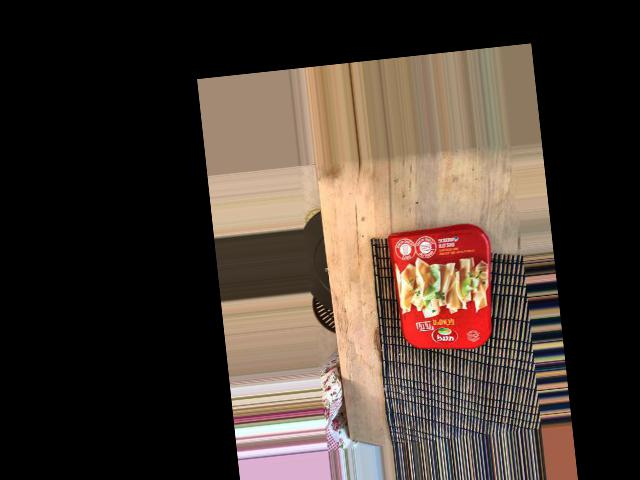cheese: (404, 300, 545, 400)
